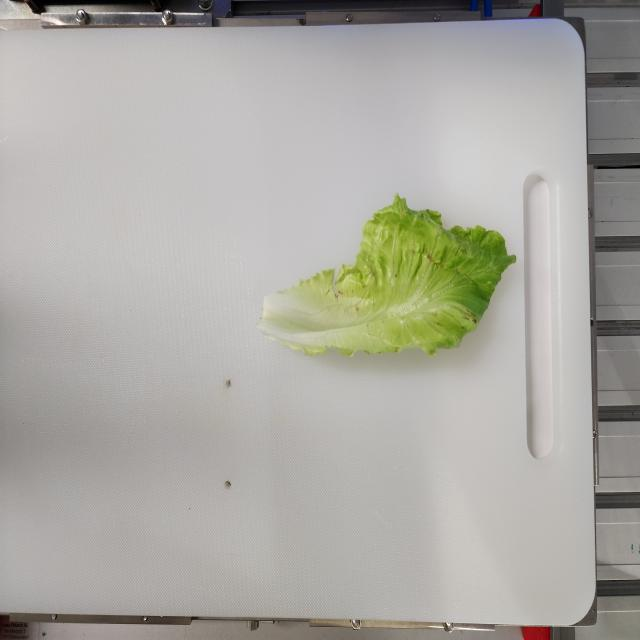lettuce: (257, 192, 516, 358)
